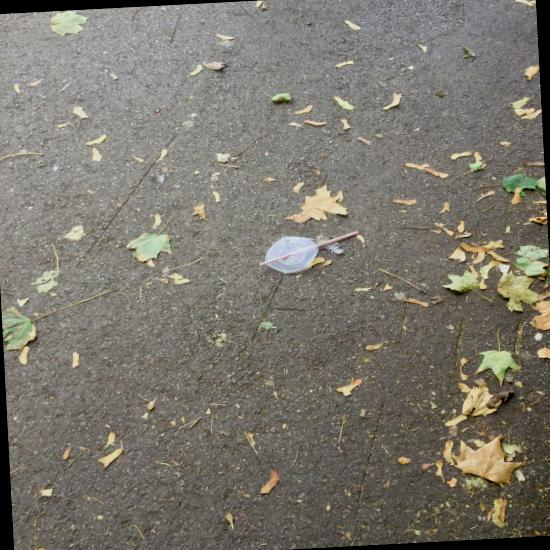Plastic lid: (265, 237, 319, 274)
Plastic straw: (259, 231, 359, 266)
